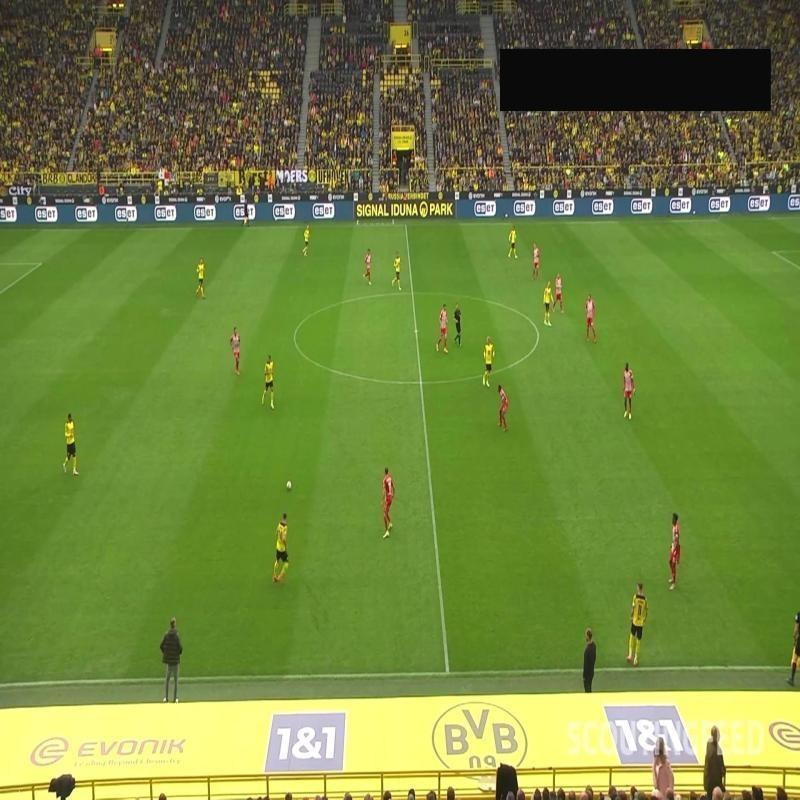13: (398, 217, 412, 231)
14: (404, 284, 422, 302)
15: (412, 374, 428, 390)
16: (438, 662, 459, 686)
9: (762, 240, 785, 265), (32, 256, 48, 271)
c: (283, 326, 305, 349), (530, 321, 546, 343), (516, 734, 530, 748)
